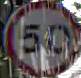Speed limit: (4, 0, 80, 76)
